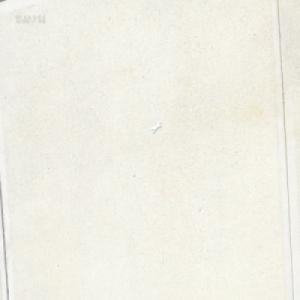Wrench: (151, 121, 162, 133)
